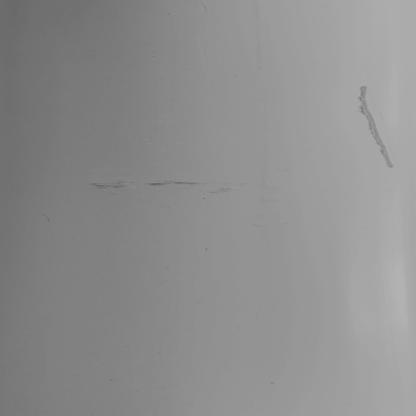sunshang: (352, 84, 394, 166), (94, 177, 242, 197)
